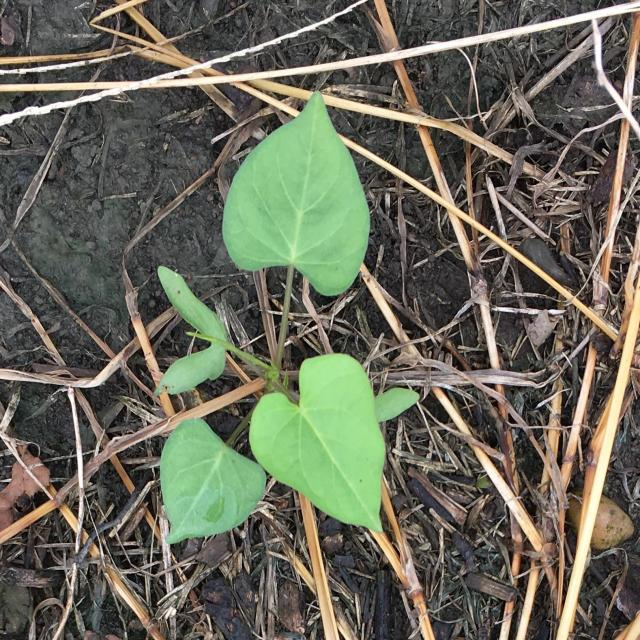MorningGlory: (152, 91, 420, 546)
